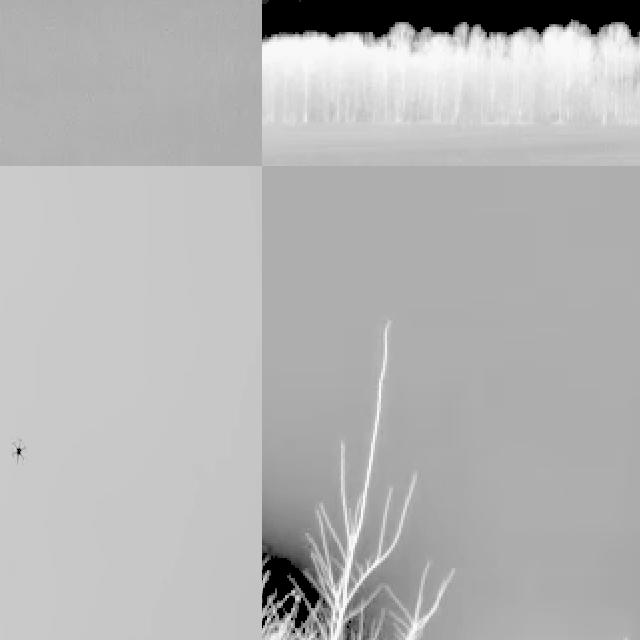drone: (7, 434, 30, 469)
